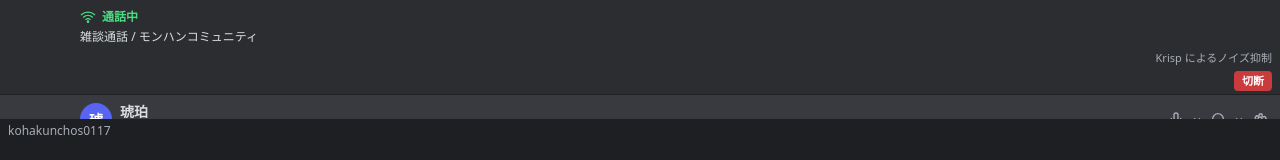
Test: SidebarUserPanel › 切断すると通話ブロックが消える
Click the button "切断". click: point(1253, 81)
box: [1234,70,1272,91]
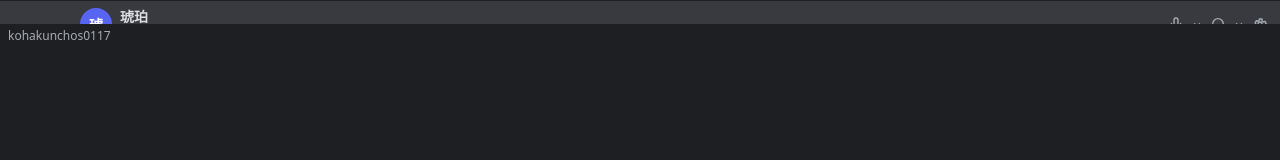
Expected: the text "通話中" is gone
Expected: the text "Krisp によるノイズ抑制" is gone
